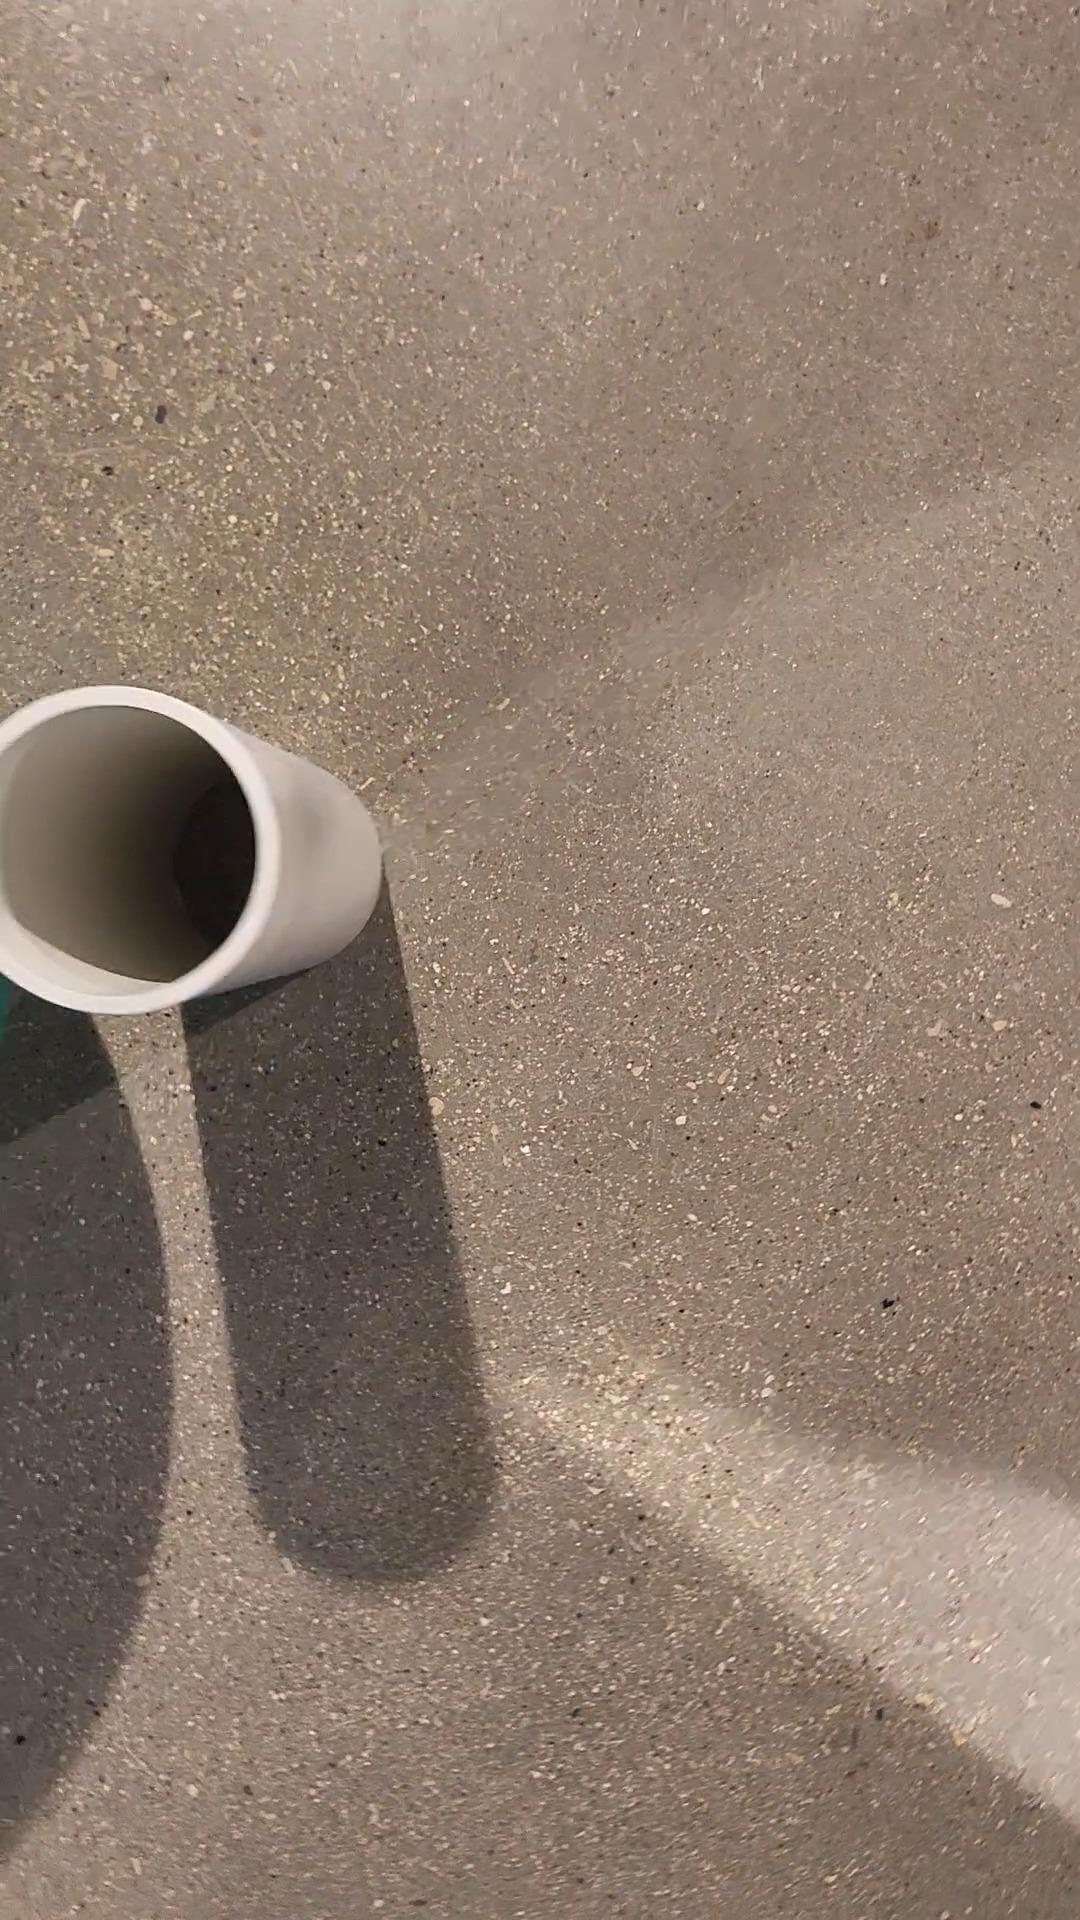coral: (0, 687, 385, 1015)
